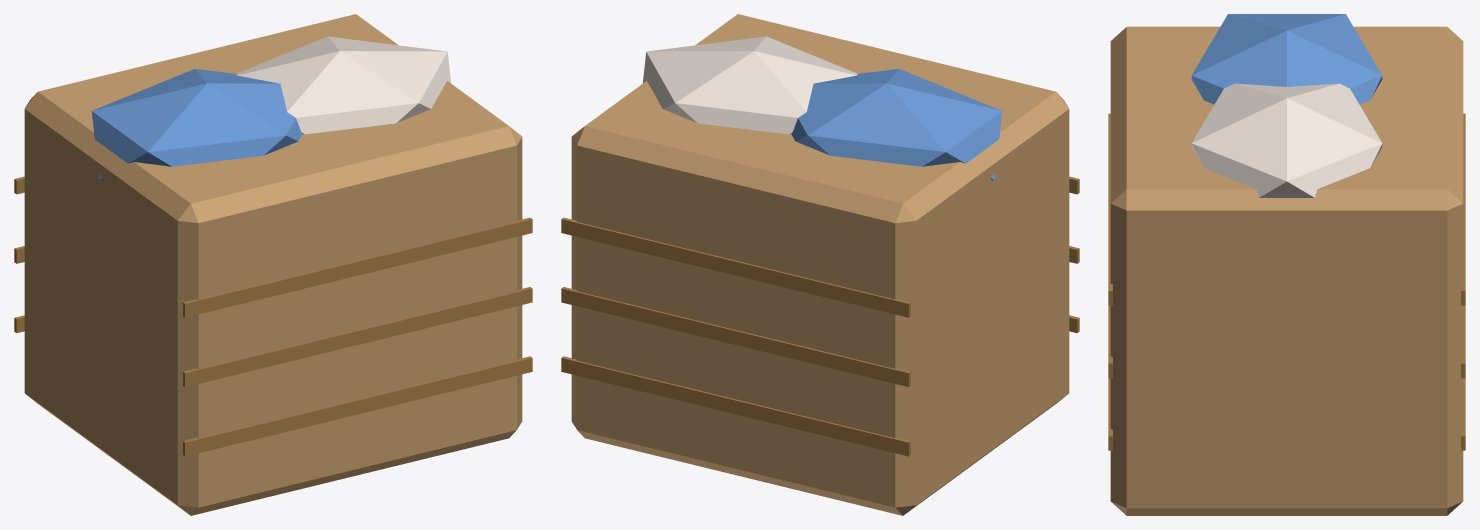
File: laundry_basket.glb
3 renders of one model, left to right at view 1: azimuth 30°, elevation 25°; view 2: azimuth 150°, elevation 25°; view 3: azimuth 270°, elevation 25°, orthographic. The views are drawn at different scales.
Visible parts, largest first — view 1: laundry_basket; view 2: laundry_basket; view 3: laundry_basket.
Boxes of the visible parts, x1=… form: laundry_basket: x1=14, y1=14, x2=532, y2=515; laundry_basket: x1=561, y1=14, x2=1079, y2=515; laundry_basket: x1=1108, y1=14, x2=1465, y2=515.
Size of the model in its own units: 0.5256 by 0.51 by 0.446.
